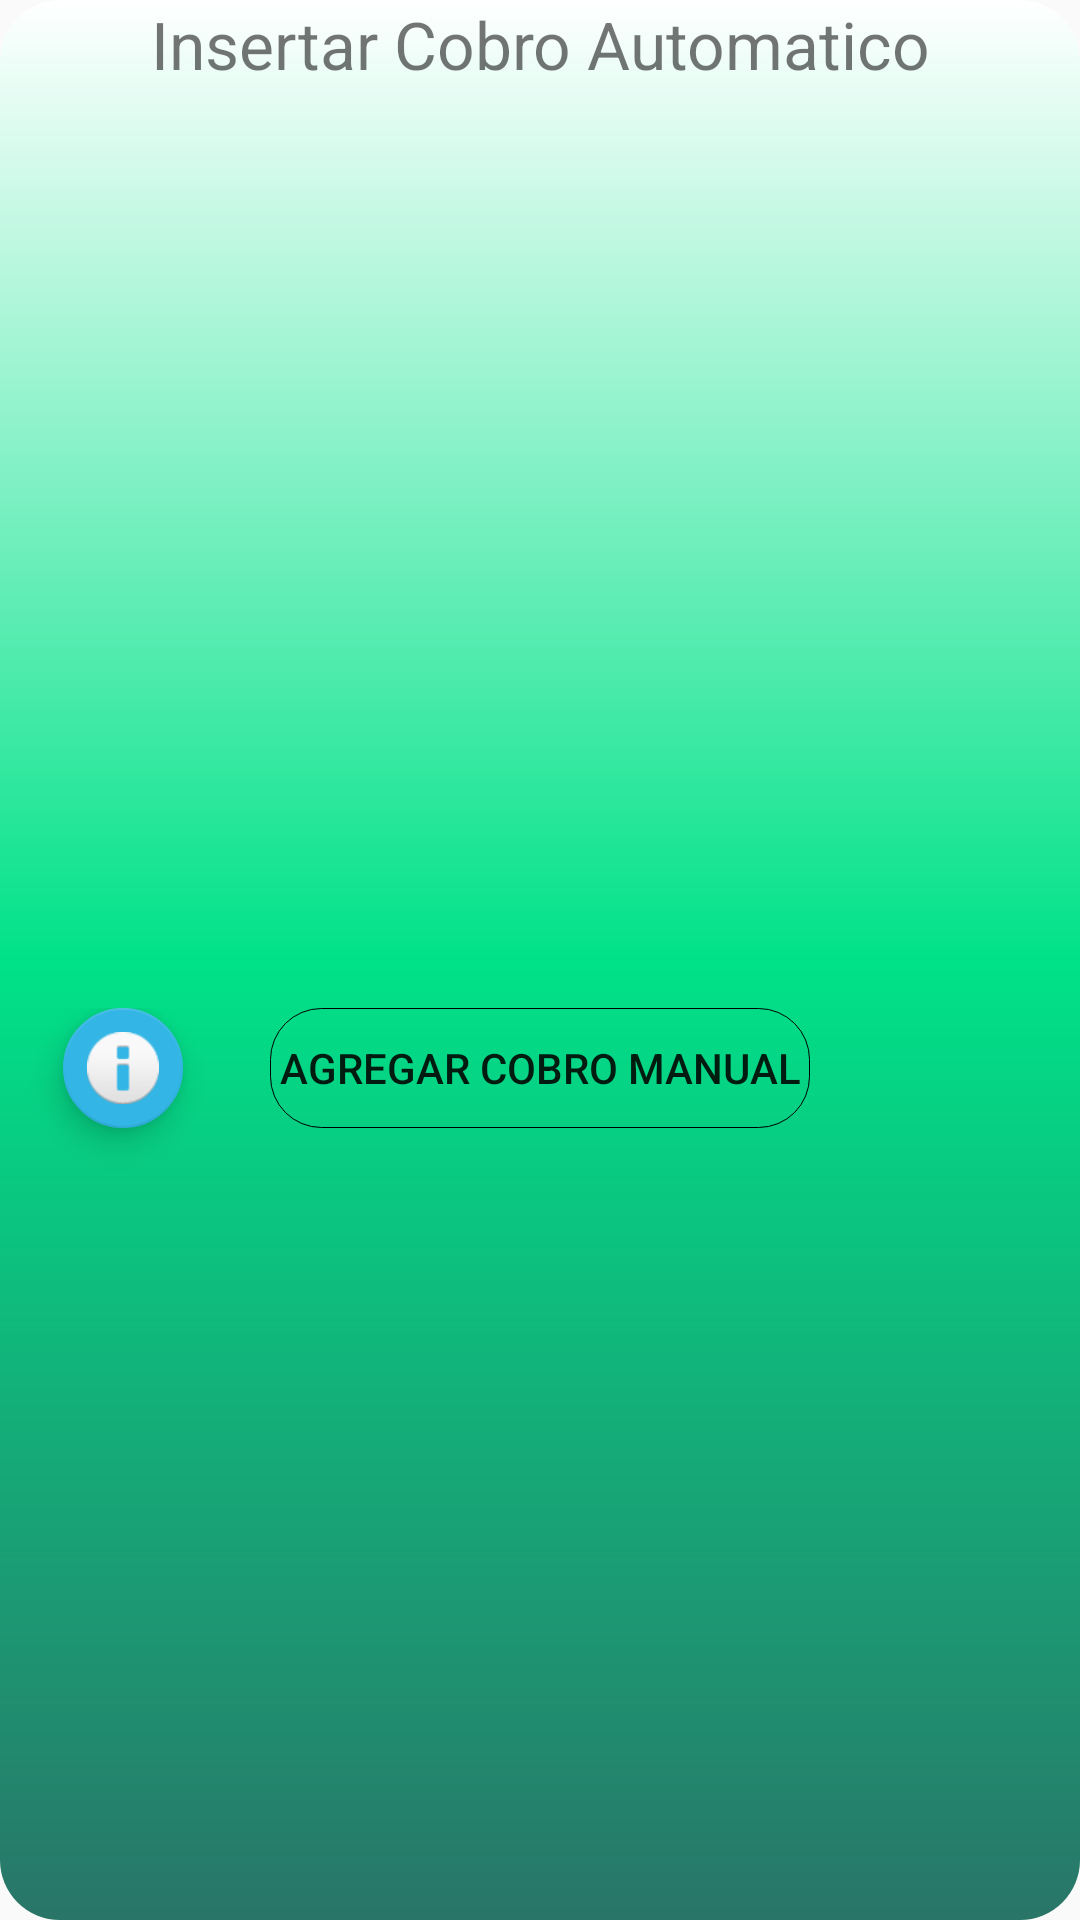

Icon bounding boxes for this 1080w x 1920h phone screenshot, format [x1=x1, y1=y1, x2=x2, y2=y2]:
info: [x1=63, y1=1008, x2=183, y2=1128]
